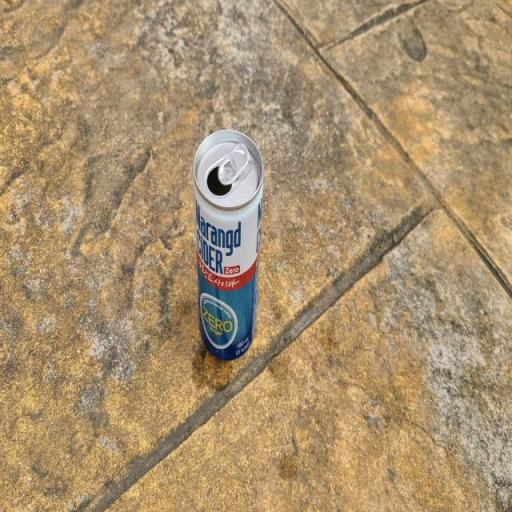metal: (183, 104, 270, 374)
